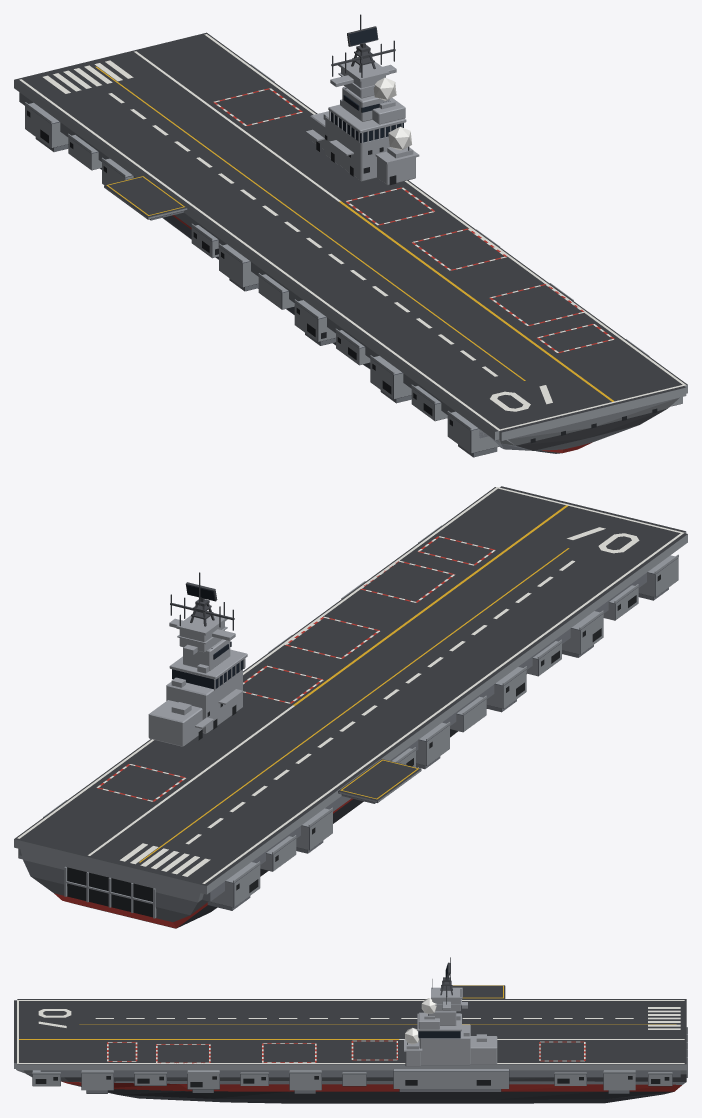
Rendered from carrier.glb.
The picture shows the model from 3 angles, top to bottom: view 1: azimuth 30°, elevation 25°; view 2: azimuth 150°, elevation 25°; view 3: azimuth 270°, elevation 25°; orthographic projection. The views are drawn at different scales.
Visible parts, largest first — view 1: hull, markings, island; view 2: hull, markings, island; view 3: hull, island, markings.
Boxes of the visible parts, x1,y1,x2,y2 form: hull: (14,32,687,457); markings: (19,34,686,430); island: (305,14,419,185); hull: (14,486,687,928); markings: (17,487,684,883); island: (148,572,247,746); hull: (14,985,687,1103); island: (404,957,497,1066); markings: (17,985,684,1063).
Size of the model in its own units: 98.25 by 86 by 331.
